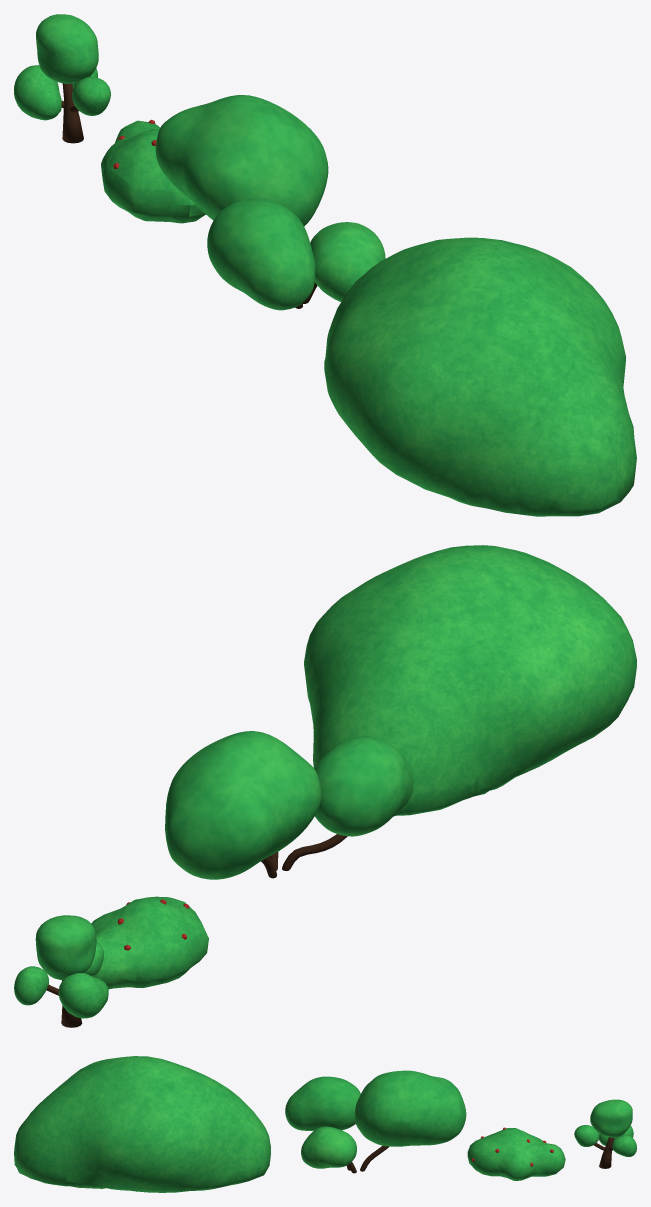
Rendered from Bushes.fbx.
3 renders of one model, top to bottom at view 1: azimuth 30°, elevation 25°; view 2: azimuth 150°, elevation 25°; view 3: azimuth 270°, elevation 25°, orthographic. The views are drawn at different scales.
Parts seen in each view (by area): view 1: BushBig, BushMedium, BushSmall, BushSmall2; view 2: BushBig, BushMedium, BushSmall2, BushSmall; view 3: BushBig, BushMedium, BushSmall2, BushSmall.
Part boxes in pixels (x1=…): BushBig: x1=324, y1=237, x2=636, y2=516; BushMedium: x1=155, y1=95, x2=385, y2=310; BushSmall: x1=14, y1=14, x2=110, y2=143; BushSmall2: x1=101, y1=119, x2=205, y2=223; BushBig: x1=304, y1=545, x2=636, y2=816; BushMedium: x1=165, y1=731, x2=413, y2=879; BushSmall2: x1=91, y1=896, x2=208, y2=989; BushSmall: x1=14, y1=915, x2=108, y2=1027; BushBig: x1=14, y1=1056, x2=270, y2=1192; BushMedium: x1=285, y1=1070, x2=466, y2=1173; BushSmall2: x1=467, y1=1127, x2=565, y2=1180; BushSmall: x1=574, y1=1099, x2=636, y2=1168.
Bounding box in the file's own units: 130 × 86.26 × 444.
